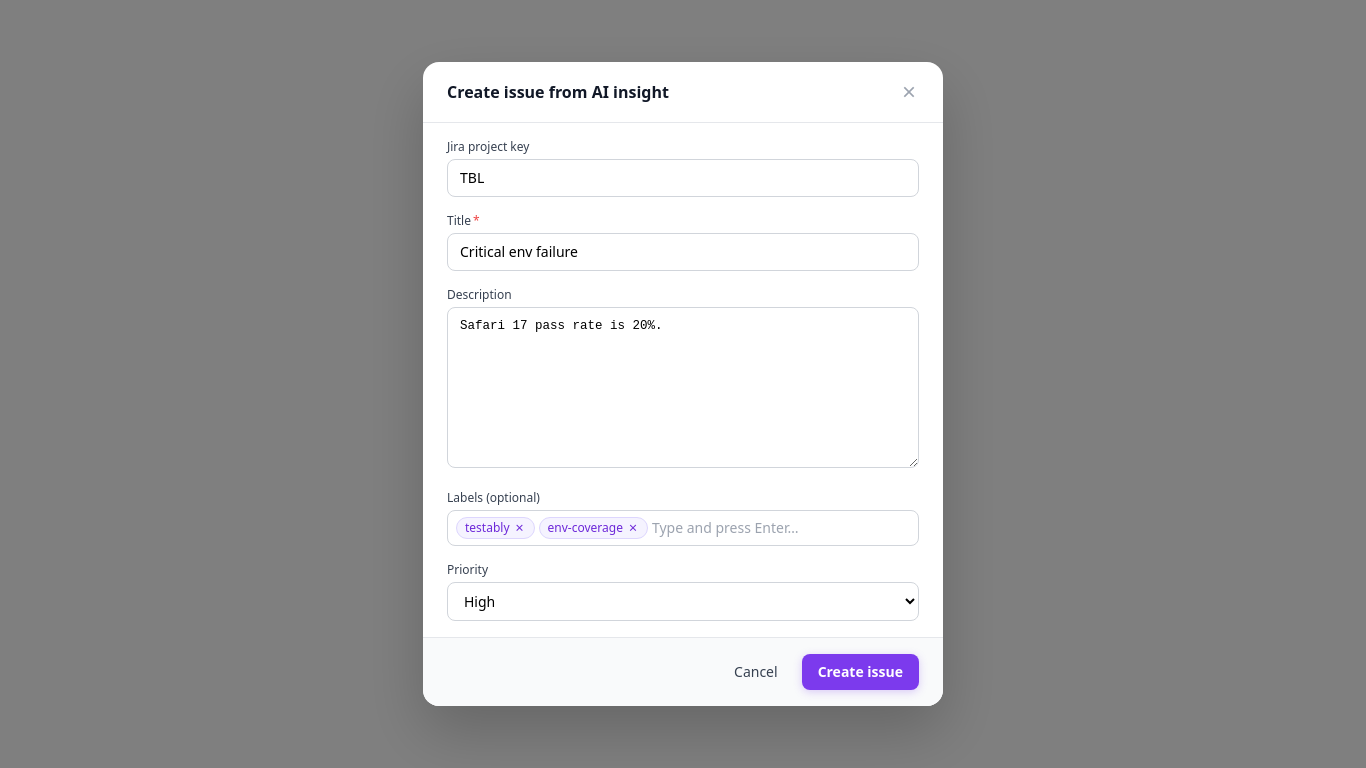
IssueCreateInlineModal › preserves modal and shows error banner when Jira API fails
This screenshot has width=1366, height=768.
Expected: the field showing "Critical env failure" below "Title" is shown, [447,233,919,271]
Click the button "Create issue". click: coordinates (860, 672)
box: [802,654,919,690]
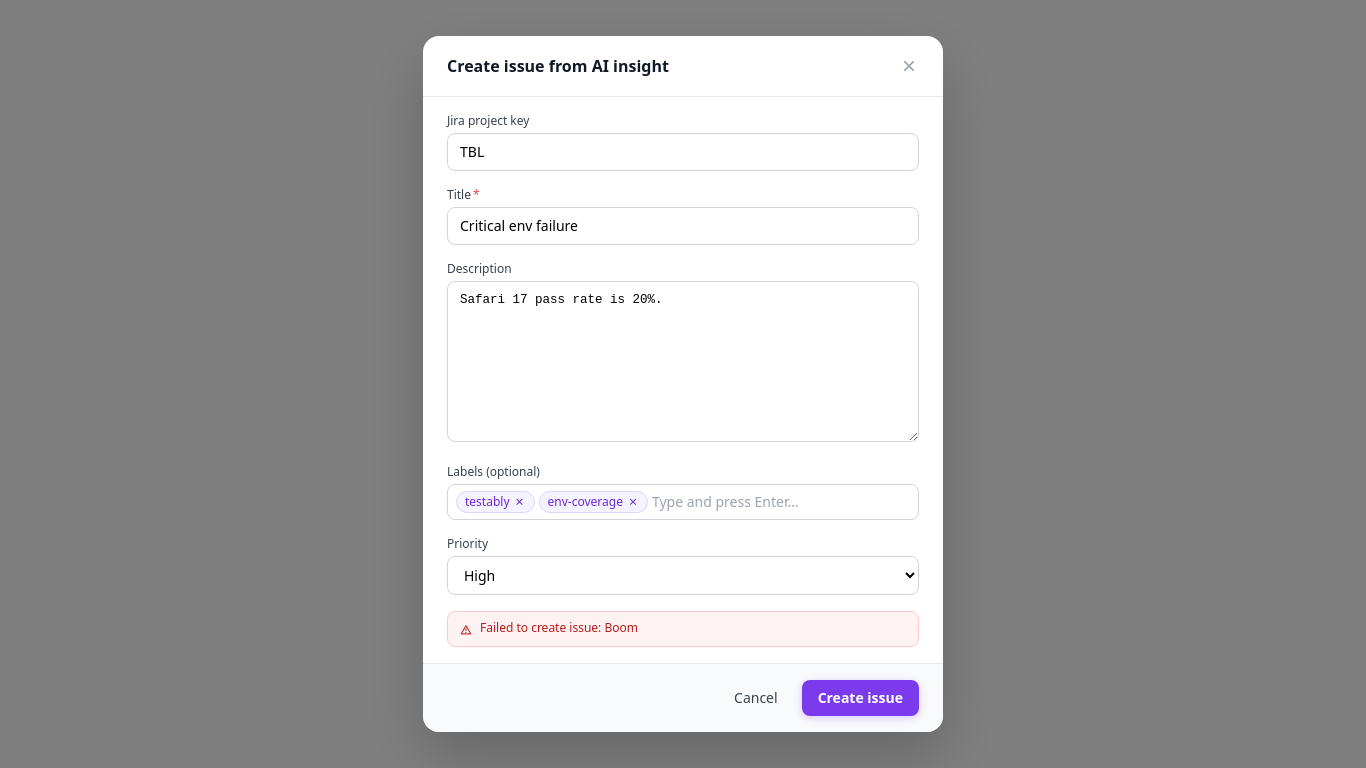
Result: the message "Failed to create issue: Boom" is shown at [447,611,919,647]
